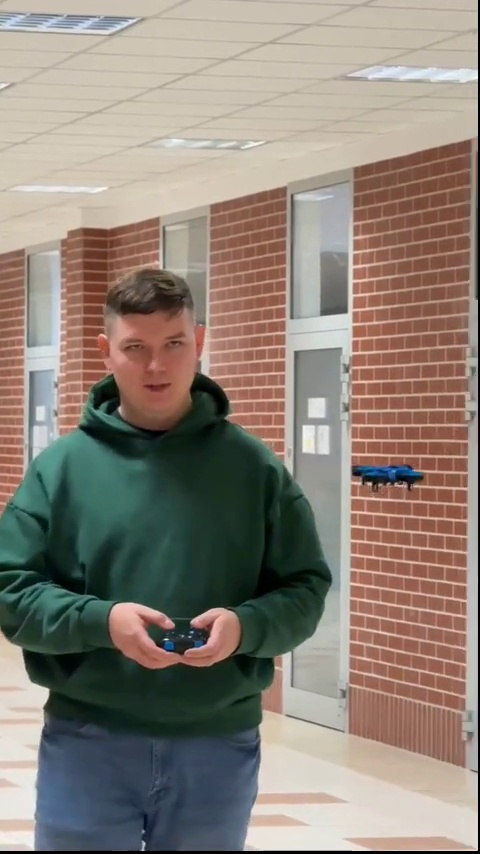drone: (352, 460, 424, 490)
no vest: (0, 265, 336, 829)
